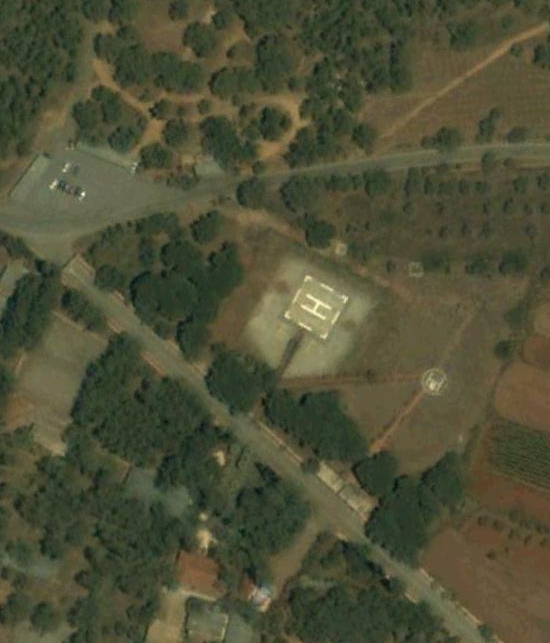heliport: (297, 291, 332, 321)
